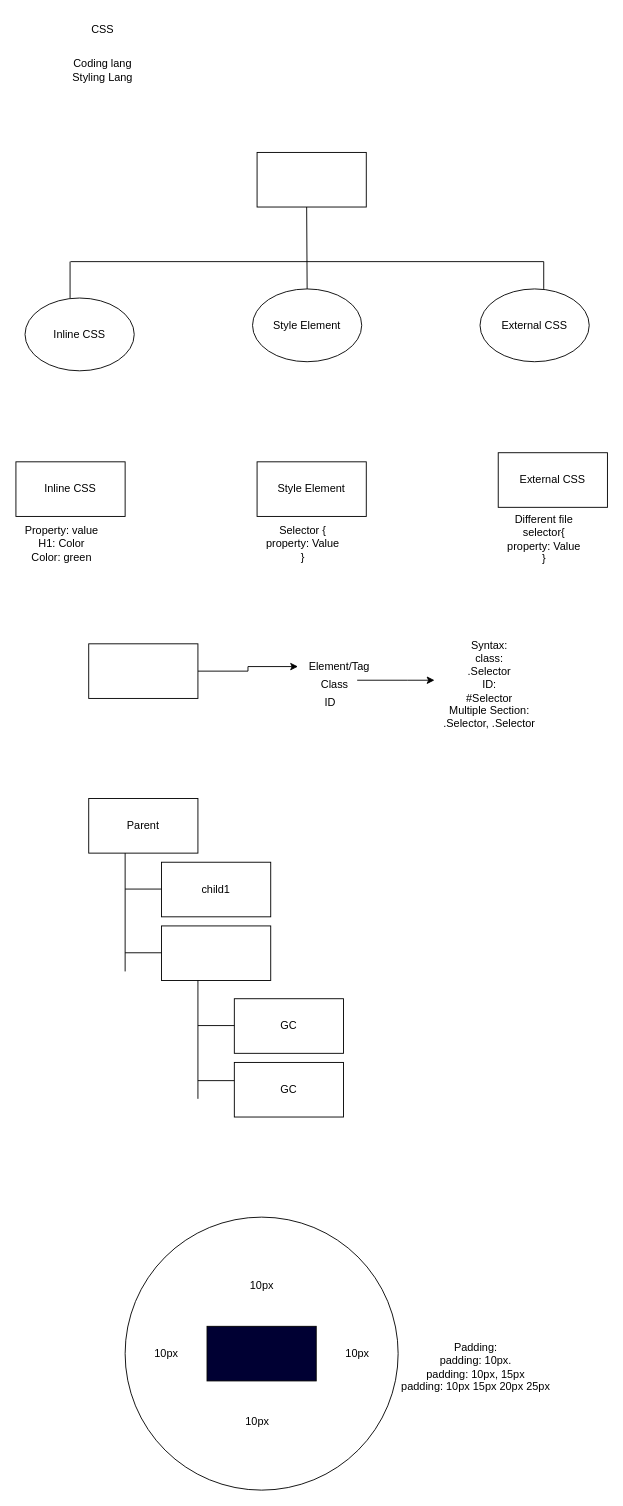
Some shapes in this 623 by 1506 pixel diagram are drawn without their labels. The box of each missing label's shape, as (x1, y1, x2, y2) in pixels:
child2: (161, 925, 271, 981)
Different Selectors: (88, 643, 198, 698)
Loading CSS: (256, 152, 366, 207)
